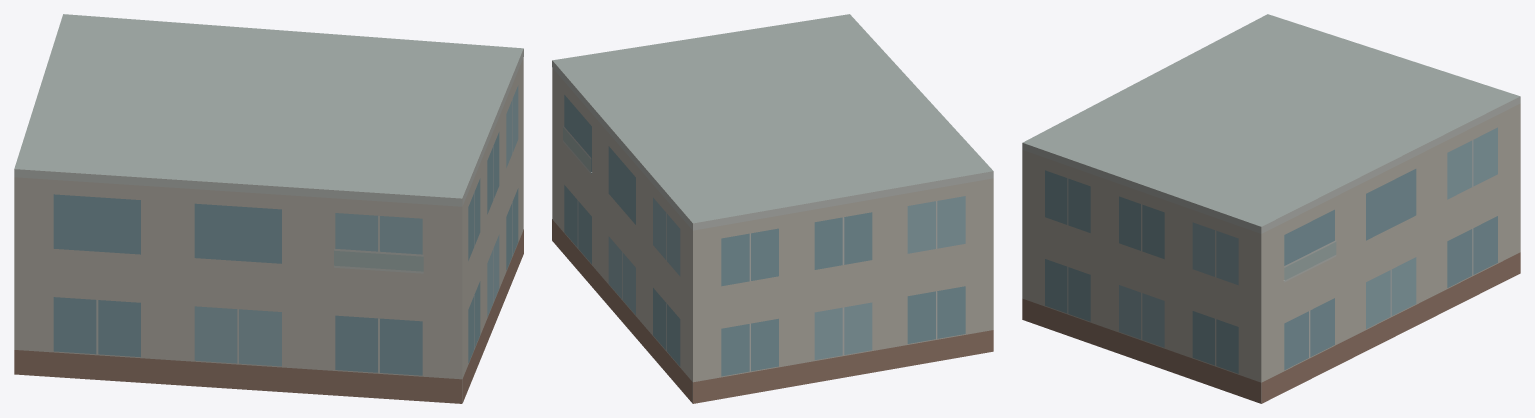
The model's file is survey-upis-32501824.glb.
3 views of the same model, side by side, from view 1: azimuth 30°, elevation 25°; view 2: azimuth 150°, elevation 25°; view 3: azimuth 270°, elevation 25° (orthographic). The views are drawn at different scales.
Parts seen in each view (by area): view 1: survey-upis-32501824.tmp; view 2: survey-upis-32501824.tmp; view 3: survey-upis-32501824.tmp.
Part boxes in pixels (x1,y1,x2,y2): survey-upis-32501824.tmp: [14, 14, 523, 403]; survey-upis-32501824.tmp: [552, 14, 993, 403]; survey-upis-32501824.tmp: [1022, 14, 1520, 403].
Bounding box in the file's own units: 15.74 × 6.1 × 15.56.
